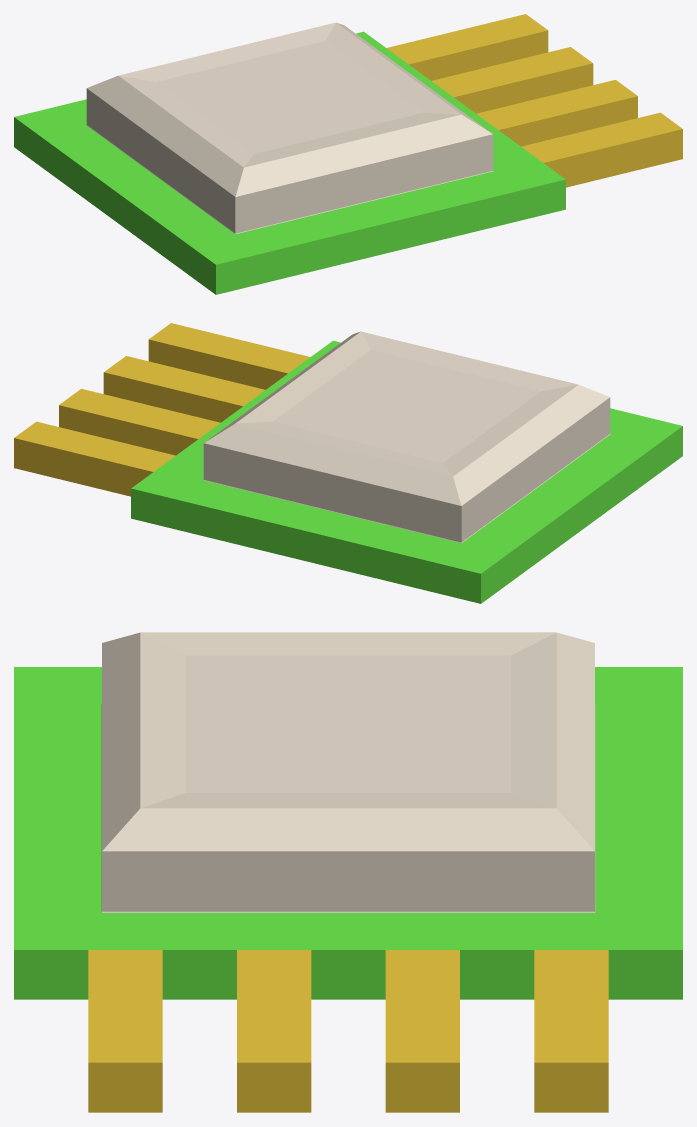
Rendered from CPU.fbx.
3 views of the same model, one above another, from view 1: azimuth 30°, elevation 25°; view 2: azimuth 150°, elevation 25°; view 3: azimuth 270°, elevation 25° (orthographic). The views are drawn at different scales.
Visible parts, largest first — view 1: Cube; view 2: Cube; view 3: Cube.
Part boxes in pixels (box(x1,y1,x2,y2)): Cube: box(14, 14, 682, 294); Cube: box(14, 323, 682, 603); Cube: box(14, 632, 682, 1112).
Size of the model in its own units: 109 by 20.21 by 78.18.
